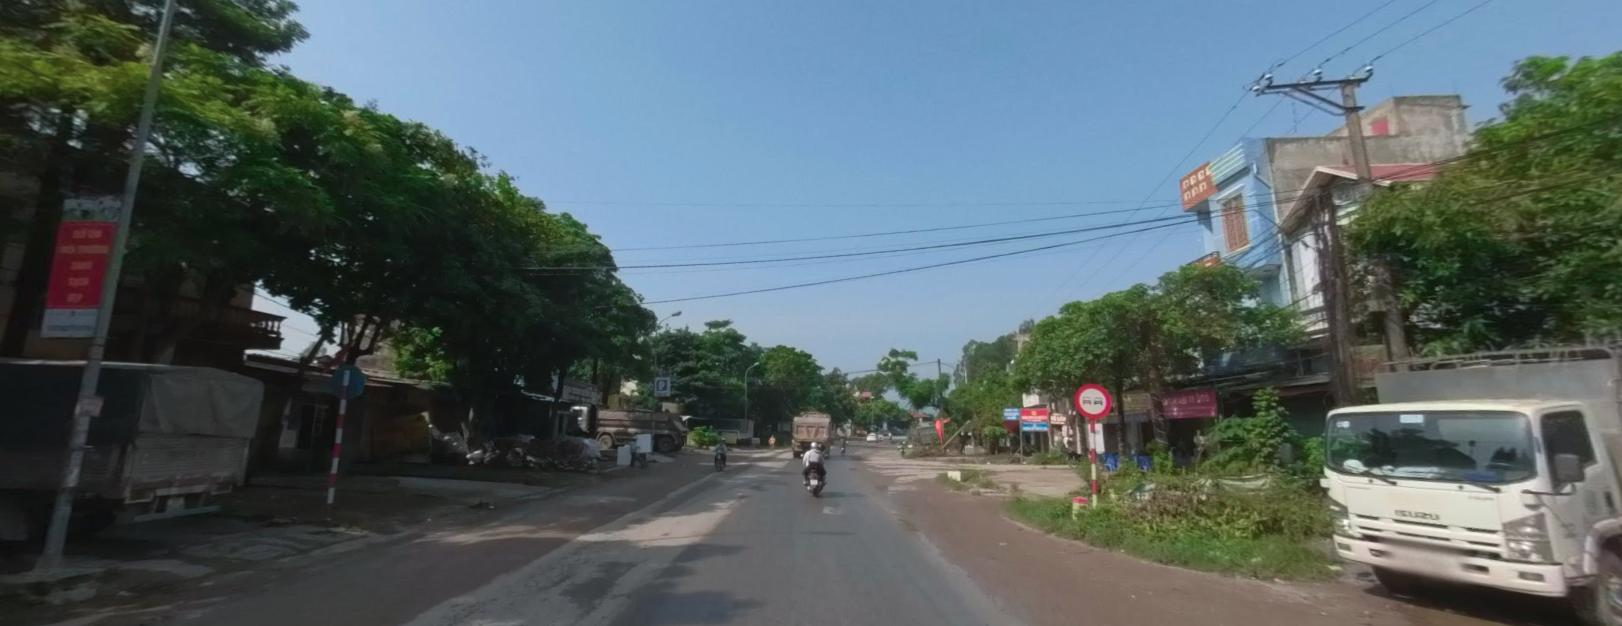Cam con lai: (1074, 383, 1110, 416)
